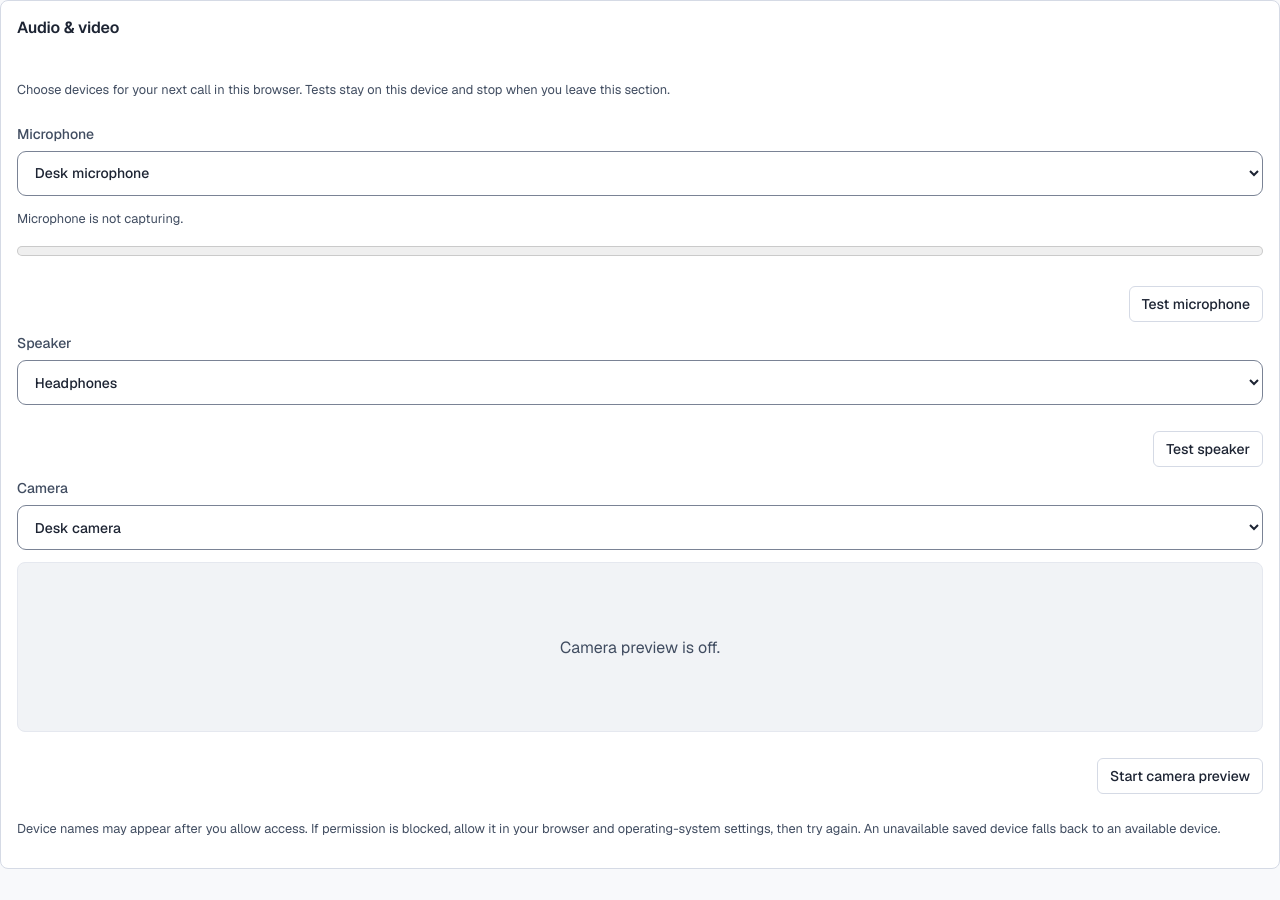
AudioVideoSettings › captures only after explicit microphone testing and releases it on Stop
Click the button "Test microphone". click: (1196, 304)
box: [1129,286,1263,322]
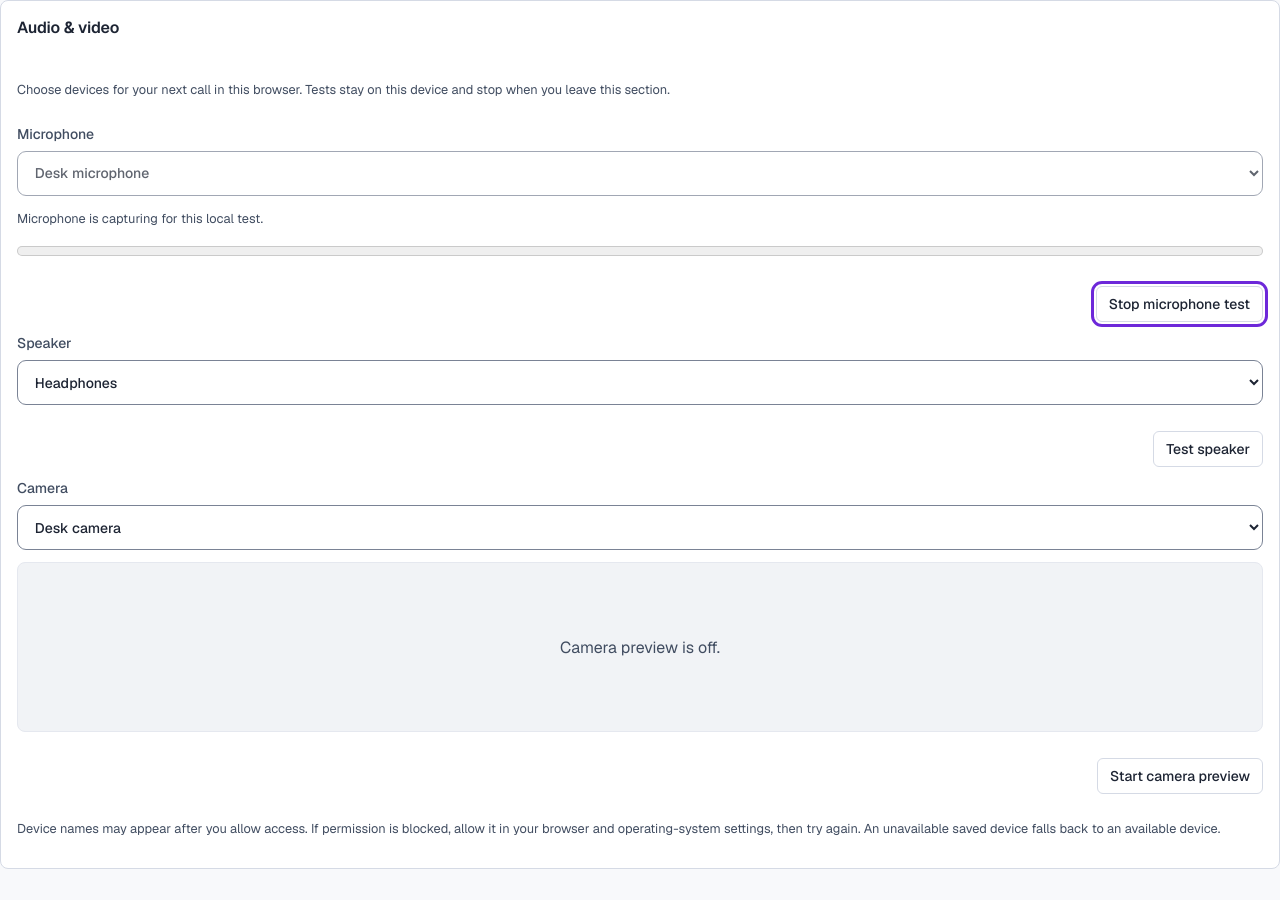
Expected: the text "Microphone is capturing for this local test." is shown, [17,210,263,227]
Click the button "Stop microphone test". click: (1179, 304)
box: [1096,286,1263,322]
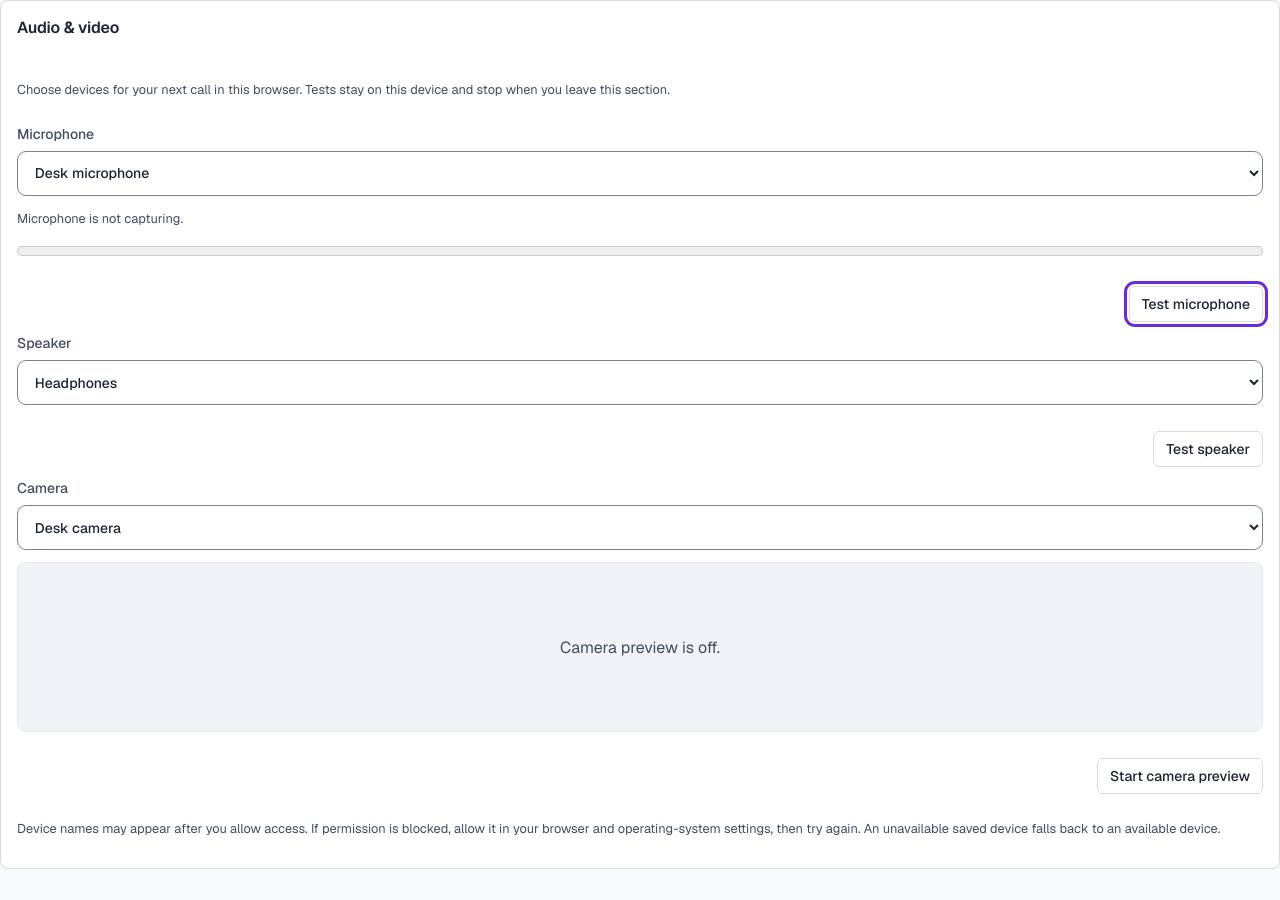
Expected: the text "Microphone is not capturing." is shown, [17,210,183,227]
